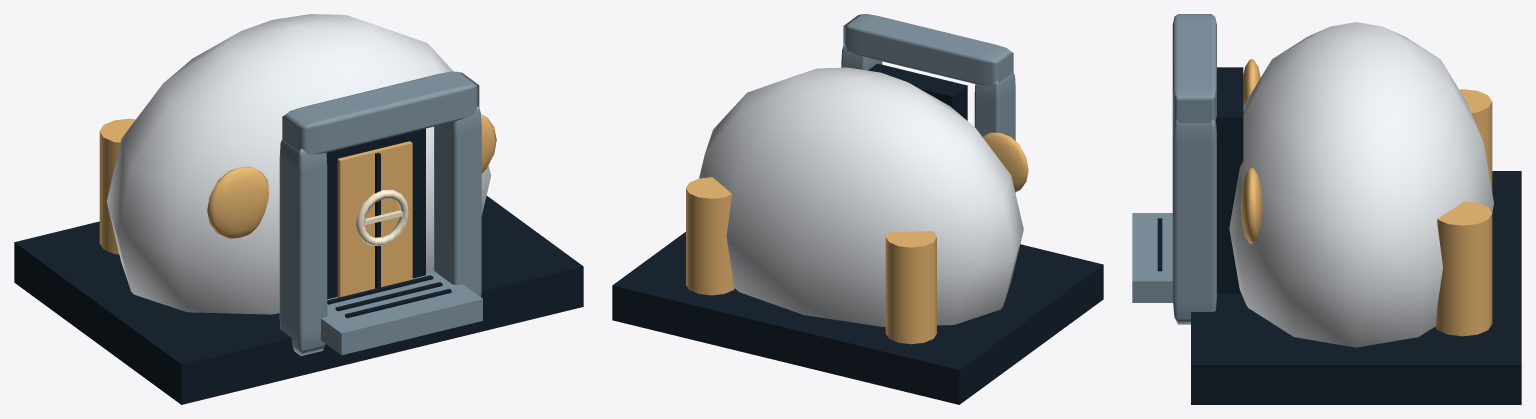
Rendered from station-hatch.glb.
The picture shows the model from 3 angles, left to right: view 1: azimuth 30°, elevation 25°; view 2: azimuth 150°, elevation 25°; view 3: azimuth 270°, elevation 25°; orthographic projection. The views are drawn at different scales.
Visible parts, largest first — view 1: habitat-shell, foundation, airlock-jamb (×2), lintel, warm-door, step, door-rim, window (×2), pressure-canister, step-tread (×3), hatch-wheel, door-split; view 2: habitat-shell, foundation, pressure-canister (×2), lintel, airlock-jamb (×2), door-rim, window; view 3: habitat-shell, foundation, airlock-jamb, pressure-canister (×2), door-rim, lintel, step, window (×2).
Boxes of the visible parts, x1,y1,x2,y2 form: habitat-shell: [106, 14, 491, 314]; foundation: [14, 196, 583, 404]; airlock-jamb (×2): [279, 106, 481, 355]; lintel: [282, 71, 479, 154]; warm-door: [337, 141, 412, 297]; step: [320, 271, 482, 355]; door-rim: [326, 128, 425, 299]; window (×2): [207, 114, 496, 238]; pressure-canister: [99, 118, 135, 254]; step-tread (×3): [327, 275, 451, 318]; hatch-wheel: [356, 189, 408, 245]; door-split: [375, 153, 380, 288]; habitat-shell: [699, 67, 1023, 326]; foundation: [612, 232, 1103, 404]; pressure-canister (×2): [686, 177, 936, 344]; lintel: [843, 14, 1013, 85]; airlock-jamb (×2): [841, 43, 1015, 192]; door-rim: [868, 63, 967, 120]; window: [982, 132, 1028, 192]; habitat-shell: [1229, 22, 1493, 347]; foundation: [1191, 171, 1521, 404]; airlock-jamb: [1172, 119, 1216, 324]; pressure-canister (×2): [1435, 89, 1492, 336]; door-rim: [1216, 67, 1243, 293]; lintel: [1172, 14, 1216, 123]; step: [1132, 213, 1172, 302]; window (×2): [1240, 59, 1262, 243].
Size of the model in its own units: 2.5 by 1.92 by 2.12.
